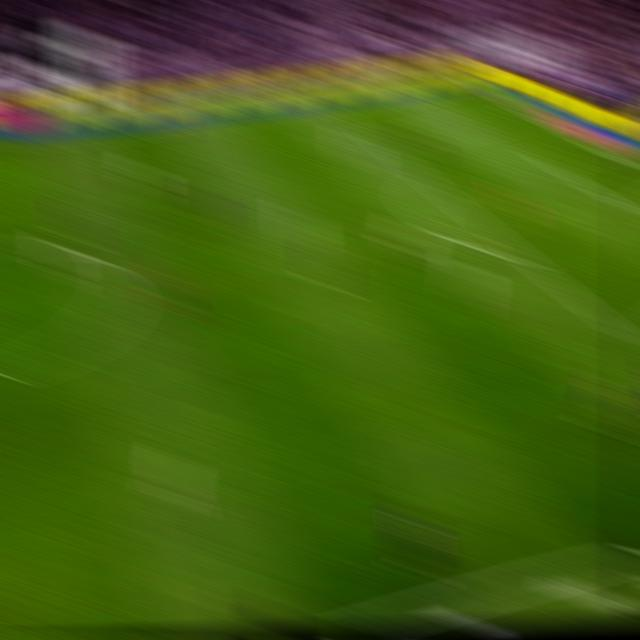bigarea_bottom_inner: (624, 329, 640, 361)
bigarea_top_inner: (364, 128, 392, 151)
bigarea_top_outter: (517, 105, 546, 124)
bottom_arc_area_intersection: (507, 244, 538, 267)
smallarea_top_inner: (531, 151, 556, 168)
top_arc_area_intersection: (421, 175, 448, 196)
